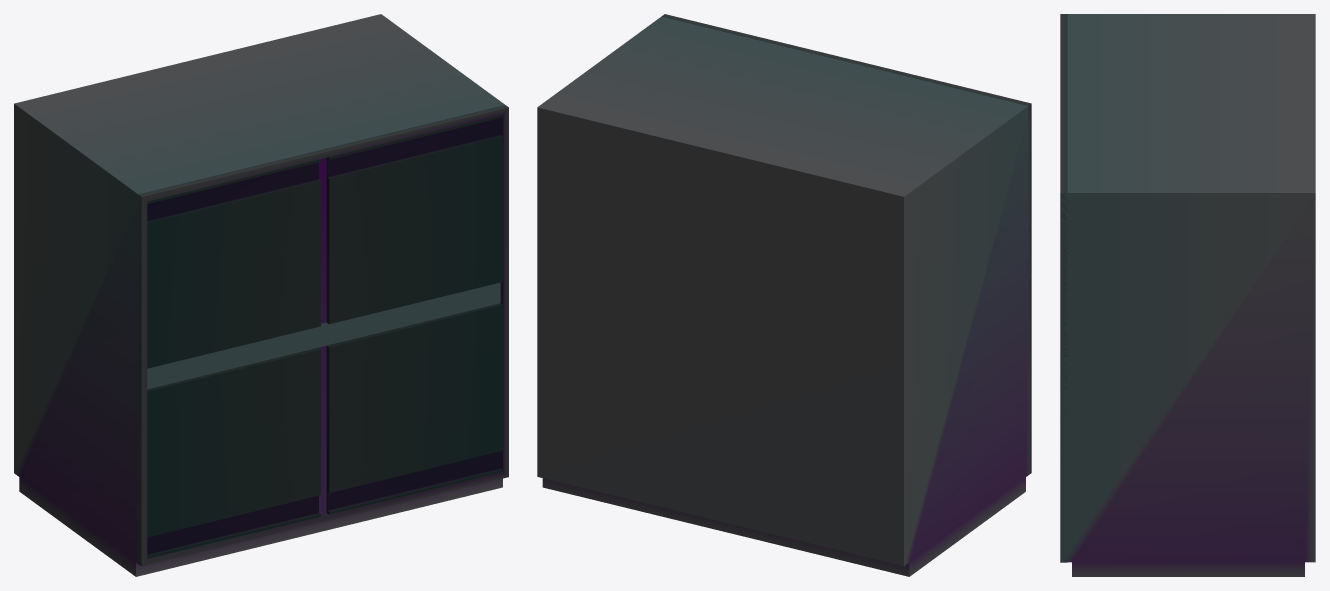
3 renders of one model, left to right at view 1: azimuth 30°, elevation 25°; view 2: azimuth 150°, elevation 25°; view 3: azimuth 270°, elevation 25°, orthographic.
Visible parts, largest first — view 1: case, lower_panel.001, upper_panel.001, lower_panel, upper_panel, outer_rim, middle_rail; view 2: case, outer_rim; view 3: case, outer_rim.
Part boxes in pixels (box(x1,y1,x2,y2)): case: box(14, 14, 504, 576); lower_panel.001: box(326, 303, 502, 514); upper_panel.001: box(326, 115, 502, 324); lower_panel: box(147, 347, 320, 558); upper_panel: box(147, 159, 320, 368); outer_rim: box(138, 105, 508, 566); middle_rail: box(147, 282, 500, 389); case: box(537, 16, 1030, 576); outer_rim: box(661, 14, 1031, 473); case: box(1061, 14, 1315, 576); outer_rim: box(1060, 14, 1067, 562).
Size of the model in its own units: 1.8 by 1.8 by 1.08.
